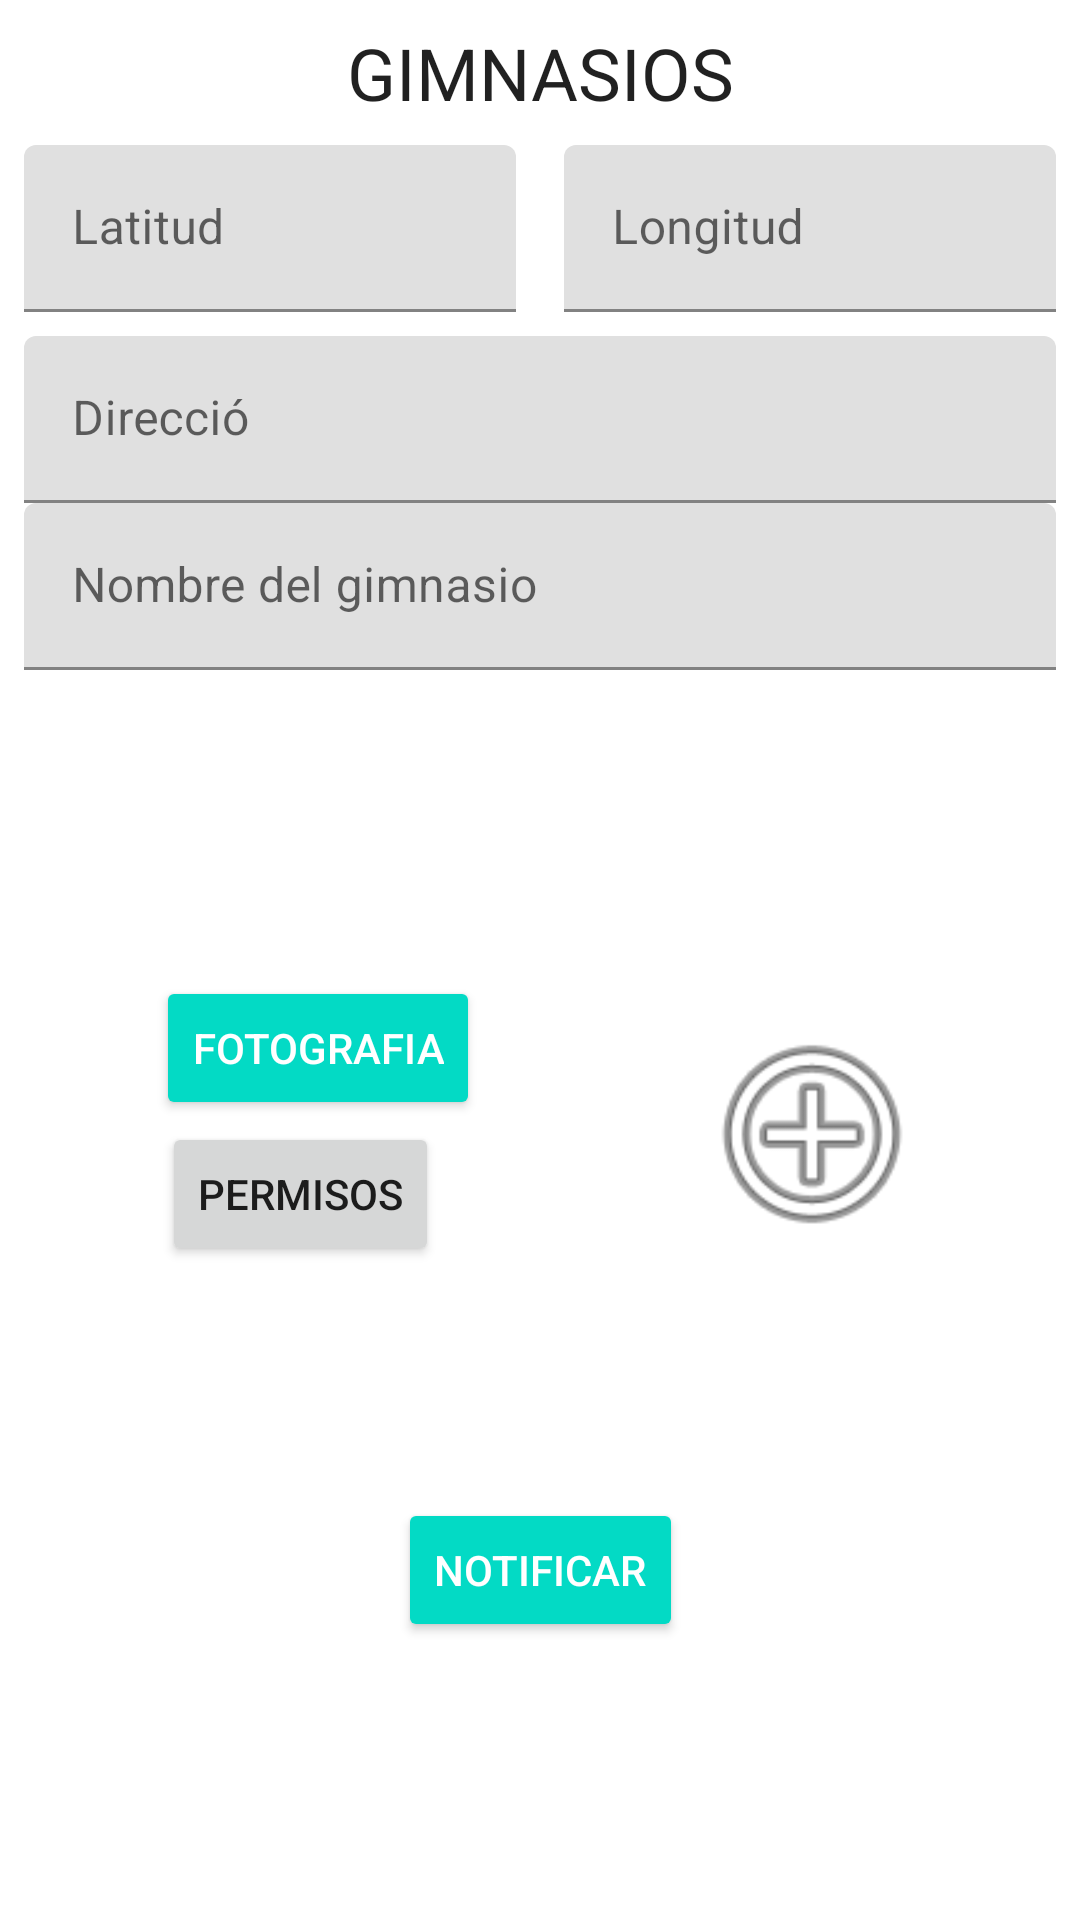

Screen size 1080px x 1920px. Icon name, then its box in pixels as (x1, y1, x2, y2):
add: (723, 1045, 901, 1224)
